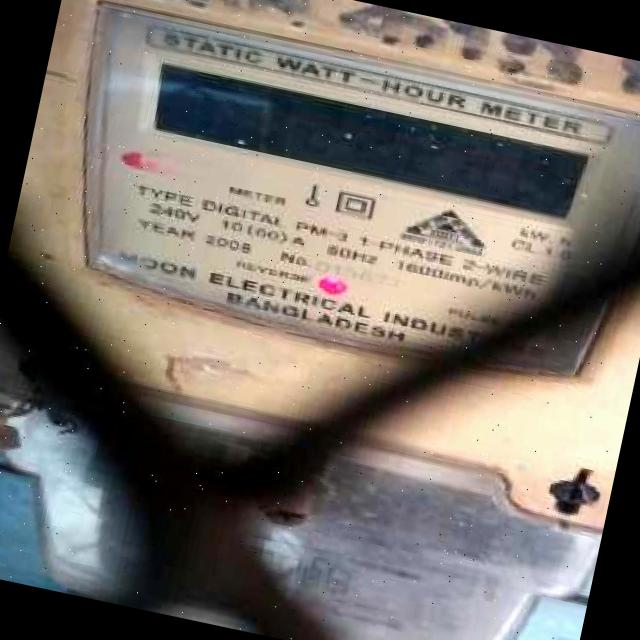LCD: (128, 38, 602, 241)
